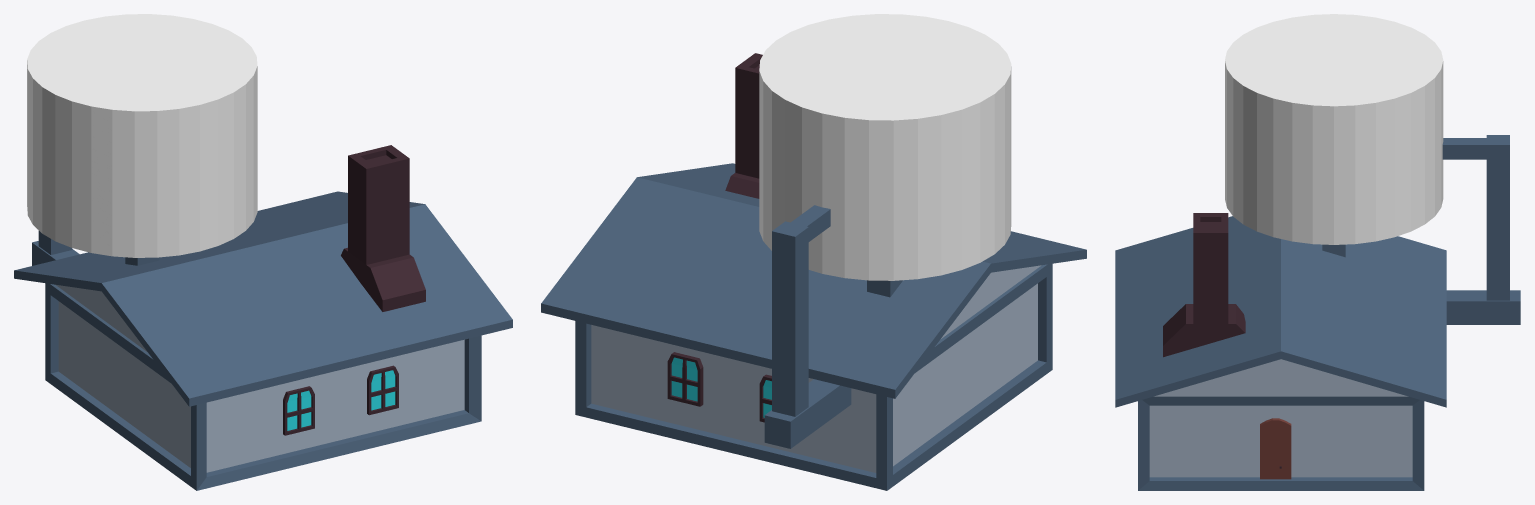
The model's file is distillery.fbx.
3 renders of one model, left to right at view 1: azimuth 30°, elevation 25°; view 2: azimuth 150°, elevation 25°; view 3: azimuth 270°, elevation 25°, orthographic. The views are drawn at different scales.
Parts seen in each view (by area): view 1: Cube, Cube.001, Chimney, Cube.005; view 2: Cube, Cube.001, Chimney, Cube.005; view 3: Cube, Cube.001, Chimney, Cube.026.
Part boxes in pixels (x1,y1,x2,y2): Cube: (14,191,512,490); Cube.001: (27,14,257,265); Chimney: (341,145,425,311); Cube.005: (283,365,398,435); Cube: (541,163,1086,490); Cube.001: (759,14,1011,448); Chimney: (725,53,762,198); Cube.005: (667,352,771,422); Cube: (1115,216,1446,490); Cube.001: (1225,14,1520,324); Chimney: (1163,213,1245,357); Cube.026: (1260,418,1291,479).
Bounding box in the file's own units: 7.72 × 7.07 × 8.06.
